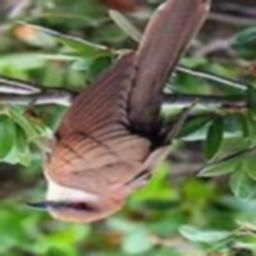Cuckoo: (24, 0, 212, 223)
